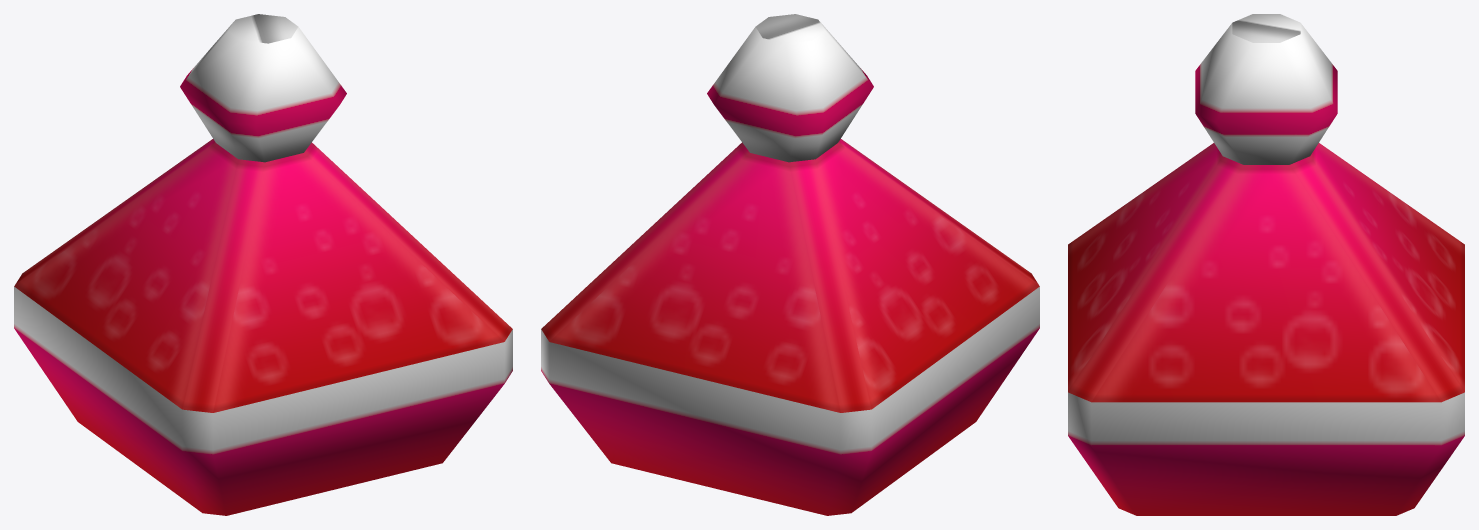
Rendered from potion_a2.FBX.
3 renders of one model, left to right at view 1: azimuth 30°, elevation 25°; view 2: azimuth 150°, elevation 25°; view 3: azimuth 270°, elevation 25°, orthographic. The views are drawn at different scales.
Visible parts, largest first — view 1: potion_a2; view 2: potion_a2; view 3: potion_a2.
Boxes of the visible parts, x1=… form: potion_a2: x1=14, y1=14, x2=512, y2=515; potion_a2: x1=541, y1=14, x2=1039, y2=515; potion_a2: x1=1068, y1=14, x2=1464, y2=515.
Size of the model in its own units: 59.87 by 70.75 by 59.87.
